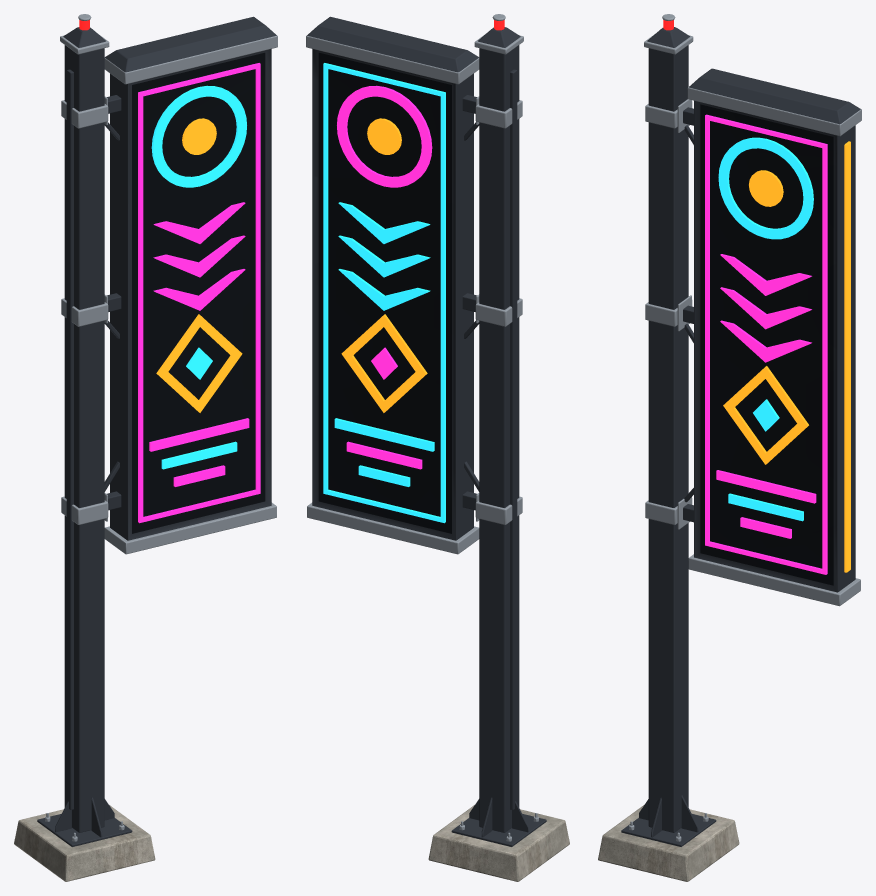
The model's file is destructible_citysign_fractured.glb.
3 views of the same model, side by side, from view 1: azimuth 30°, elevation 25°; view 2: azimuth 150°, elevation 25°; view 3: azimuth 330°, elevation 25° (orthographic).
Visible parts, largest first — view 1: chunk_006, chunk_026, chunk_008, chunk_027, chunk_007, chunk_011, chunk_010, chunk_012, chunk_005, chunk_013, chunk_009, chunk_017 (+14 smaller); view 2: chunk_006, chunk_026, chunk_008, chunk_027, chunk_007, chunk_011, chunk_010, chunk_012, chunk_005, chunk_013, chunk_009, chunk_017 (+14 smaller); view 3: chunk_027, chunk_006, chunk_008, chunk_007, chunk_011, chunk_026, chunk_013, chunk_005, chunk_009, chunk_010, chunk_012, chunk_015 (+15 smaller).
Boxes of the visible parts, bbox=[...] form: chunk_006: bbox=[61, 426, 108, 671]; chunk_026: bbox=[104, 45, 192, 203]; chunk_008: bbox=[60, 14, 109, 254]; chunk_027: bbox=[135, 16, 277, 120]; chunk_007: bbox=[61, 235, 108, 445]; chunk_011: bbox=[169, 378, 271, 493]; chunk_010: bbox=[104, 456, 202, 554]; chunk_012: bbox=[110, 361, 204, 468]; chunk_005: bbox=[64, 657, 104, 832]; chunk_013: bbox=[200, 282, 271, 396]; chunk_009: bbox=[198, 439, 276, 535]; chunk_017: bbox=[104, 246, 167, 337]; chunk_006: bbox=[475, 423, 522, 679]; chunk_026: bbox=[390, 46, 479, 204]; chunk_008: bbox=[474, 14, 523, 247]; chunk_027: bbox=[306, 16, 449, 118]; chunk_007: bbox=[475, 226, 522, 448]; chunk_011: bbox=[312, 378, 414, 493]; chunk_010: bbox=[381, 456, 479, 554]; chunk_012: bbox=[379, 361, 473, 468]; chunk_005: bbox=[479, 660, 519, 832]; chunk_013: bbox=[312, 282, 383, 397]; chunk_009: bbox=[307, 438, 385, 535]; chunk_017: bbox=[417, 245, 479, 336]; chunk_027: bbox=[718, 73, 861, 173]; chunk_006: bbox=[645, 428, 692, 663]; chunk_008: bbox=[644, 14, 693, 248]; chunk_007: bbox=[645, 221, 692, 452]; chunk_011: bbox=[735, 433, 855, 545]; chunk_026: bbox=[677, 68, 761, 224]; chunk_013: bbox=[765, 356, 855, 483]; chunk_005: bbox=[648, 662, 688, 832]; chunk_009: bbox=[765, 512, 860, 606]; chunk_010: bbox=[677, 486, 767, 587]; chunk_012: bbox=[694, 409, 772, 501]; chunk_015: bbox=[753, 327, 855, 403].
Bounding box in the file's own units: 3.01 × 10.55 × 1.19.
Materials: 9 (2 with a texture image).
